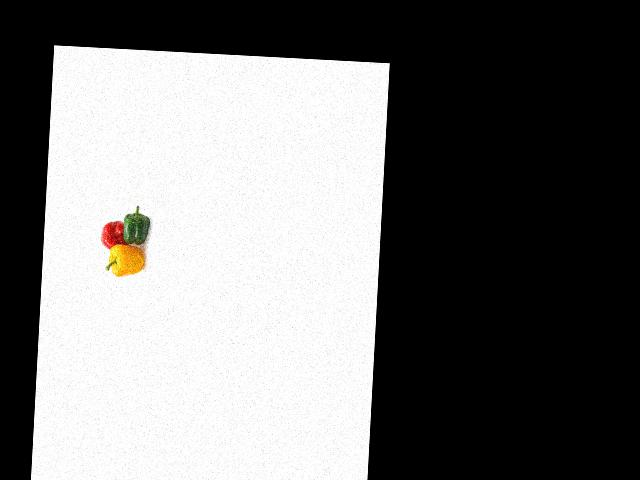bell_pepper: (118, 208, 150, 252)
